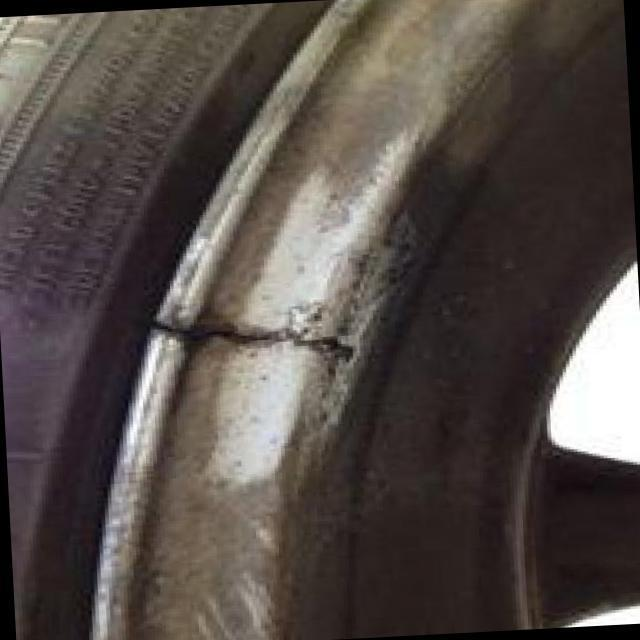defect: (138, 294, 364, 362)
